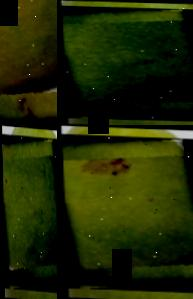PartiallyRipe: (0, 0, 57, 125)
Unripe: (57, 135, 193, 289), (57, 7, 193, 118), (0, 136, 57, 289)
